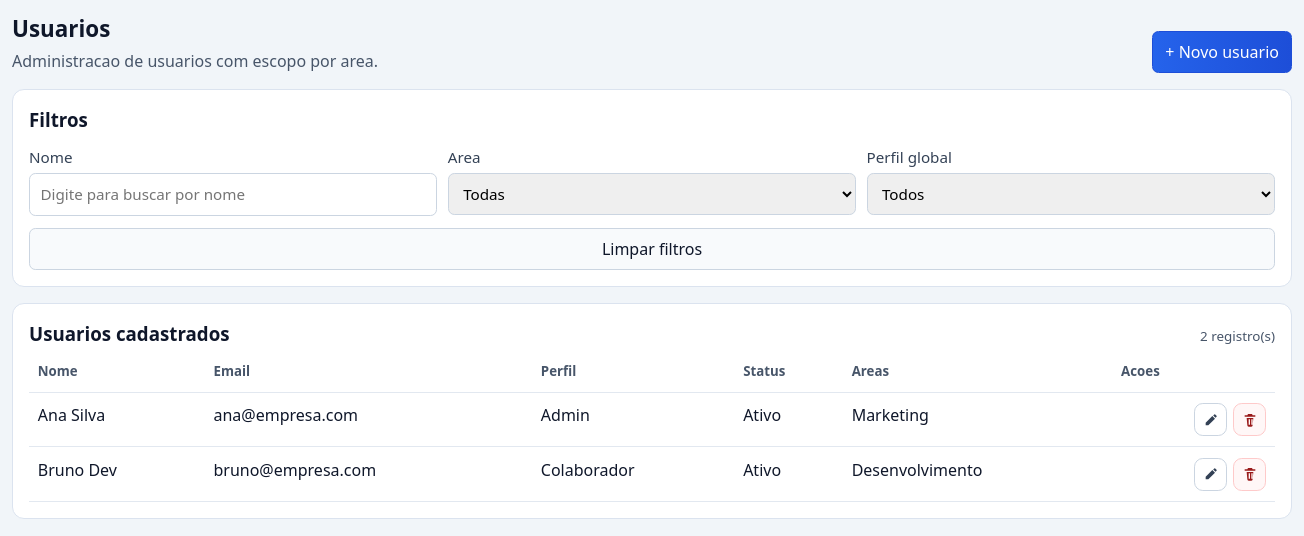
Scenario: PaginaUsuarios › deve listar usuarios e aplicar filtro por nome
The image size is (1304, 536).
Check: the text "Ana Silva" is shown, box [29, 393, 205, 447]
Check: the text "Bruno Dev" is shown, box [29, 447, 205, 502]
Type "Ana" into the field labelled "Nome" at (233, 195), box [29, 174, 437, 216]
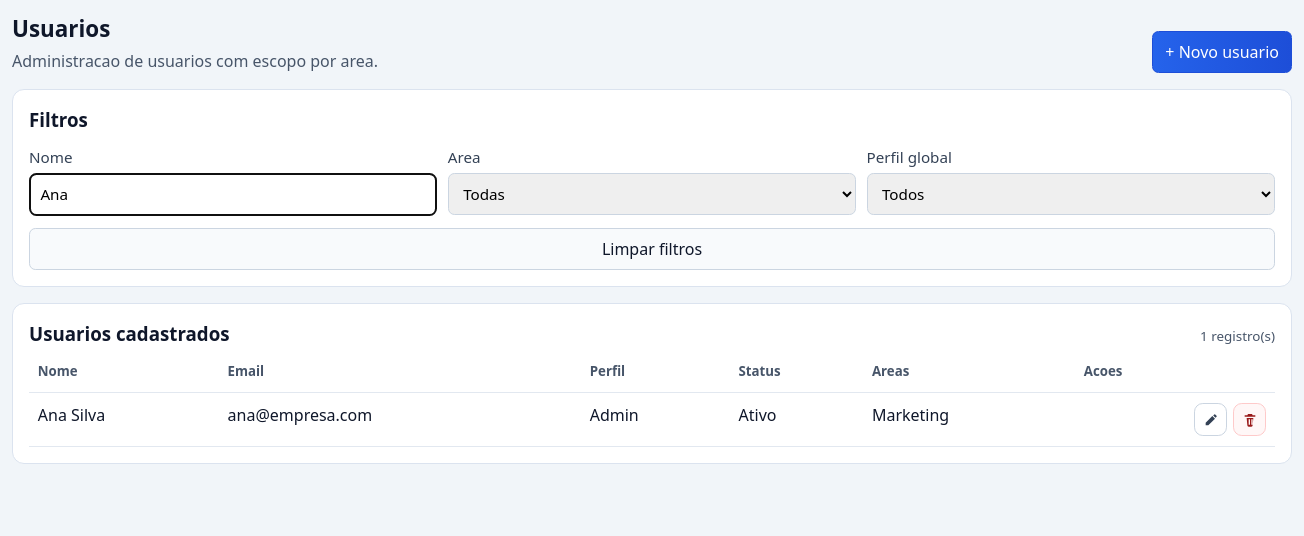
Check: the text "Ana Silva" is shown, box [29, 393, 219, 447]
Check: the text "Bruno Dev" is gone
